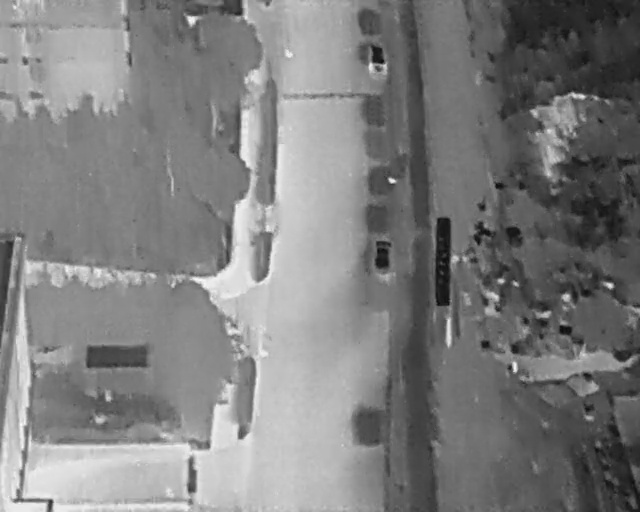Car: (368, 43, 387, 74), (374, 239, 392, 271)
